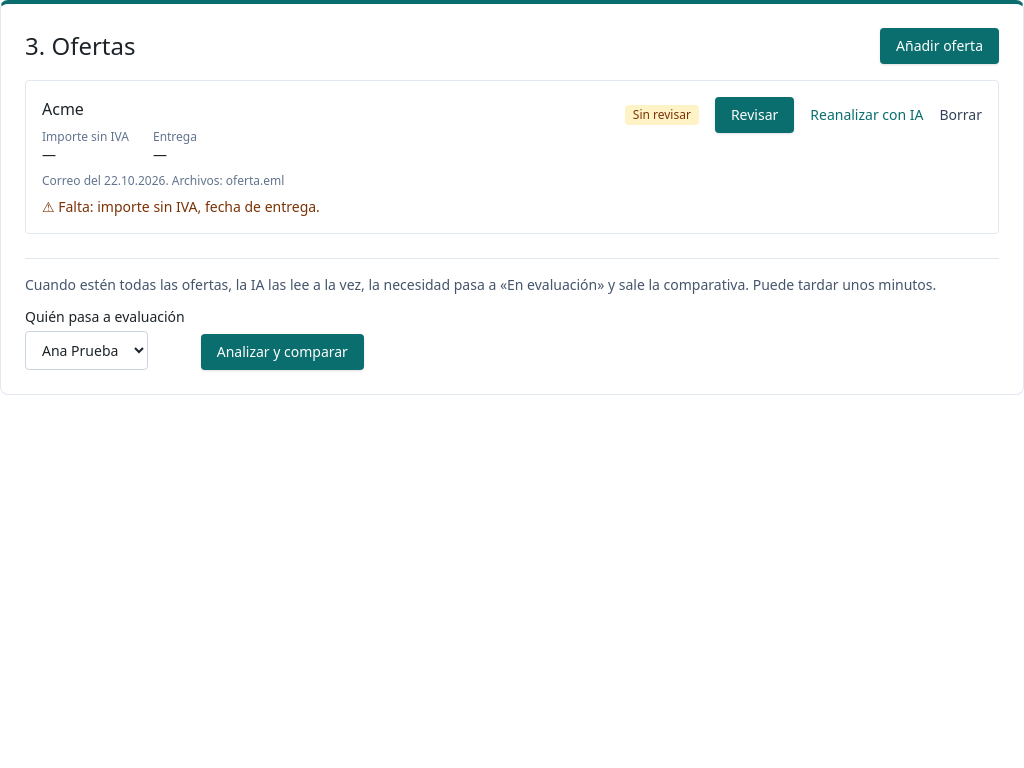
Test: SeccionOfertas › no guarda un importe que no es un número
The image size is (1024, 768).
Click the button with aria-label "Revisar la oferta de Acme" at [755, 115], box [715,97,794,133]
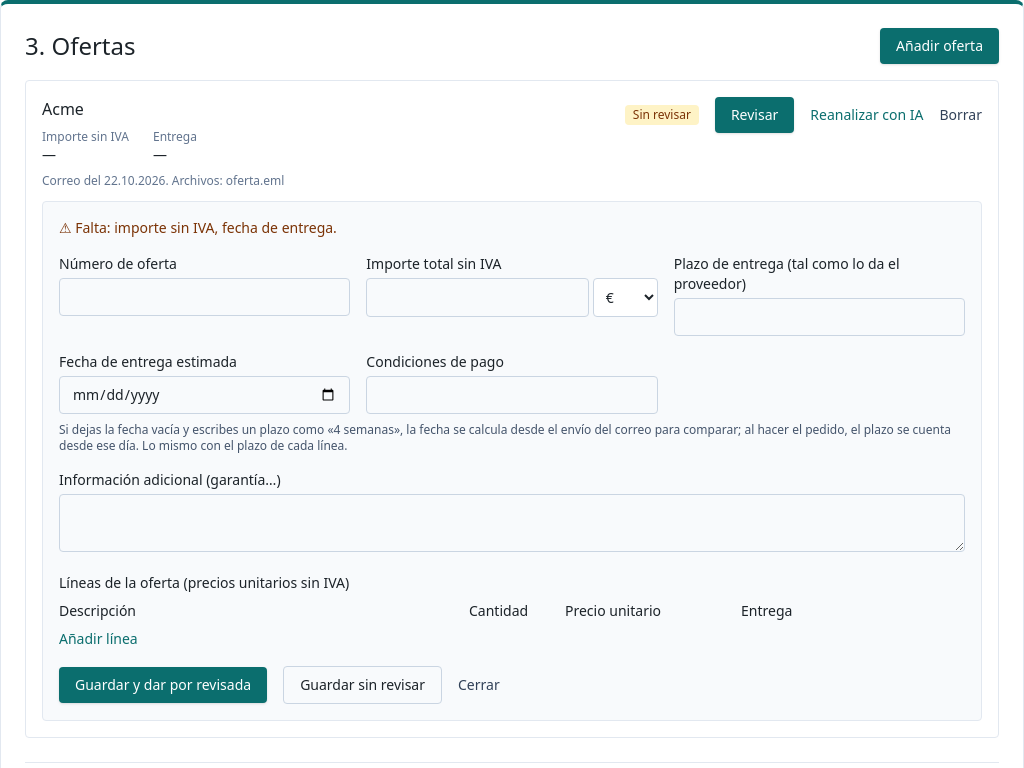
Type "mil" into the field labelled "Importe total sin IVA" at [477, 298], box [366,278,589,317]
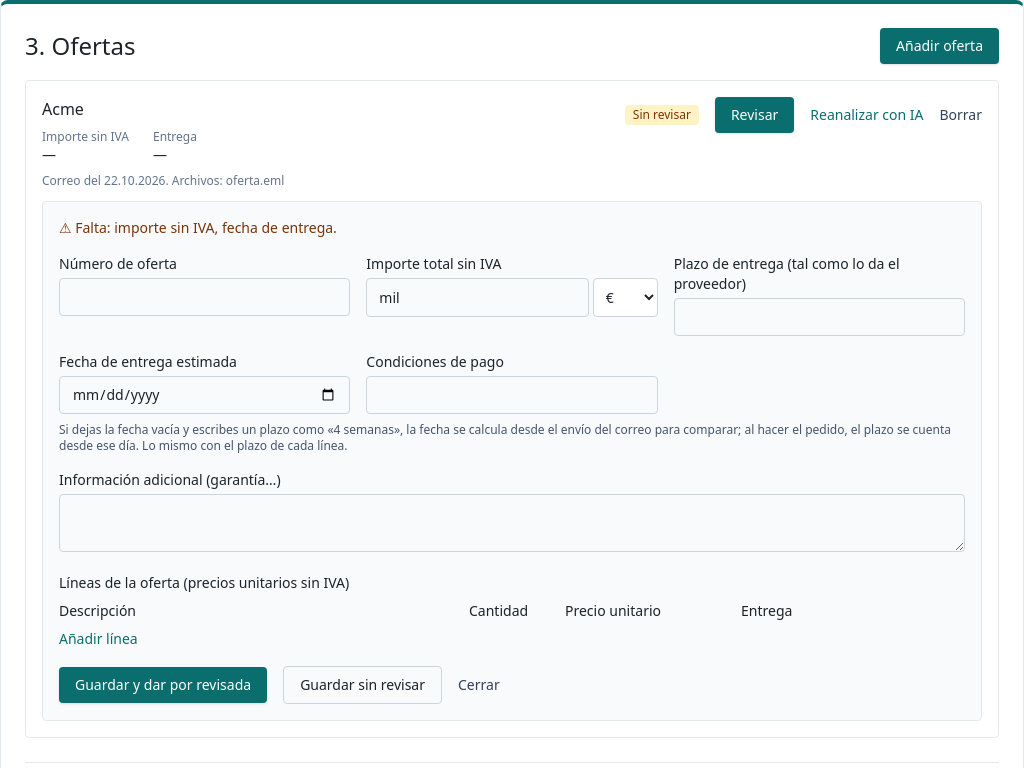
Click the button "Guardar sin revisar" at [363, 685], box [283,666,442,704]
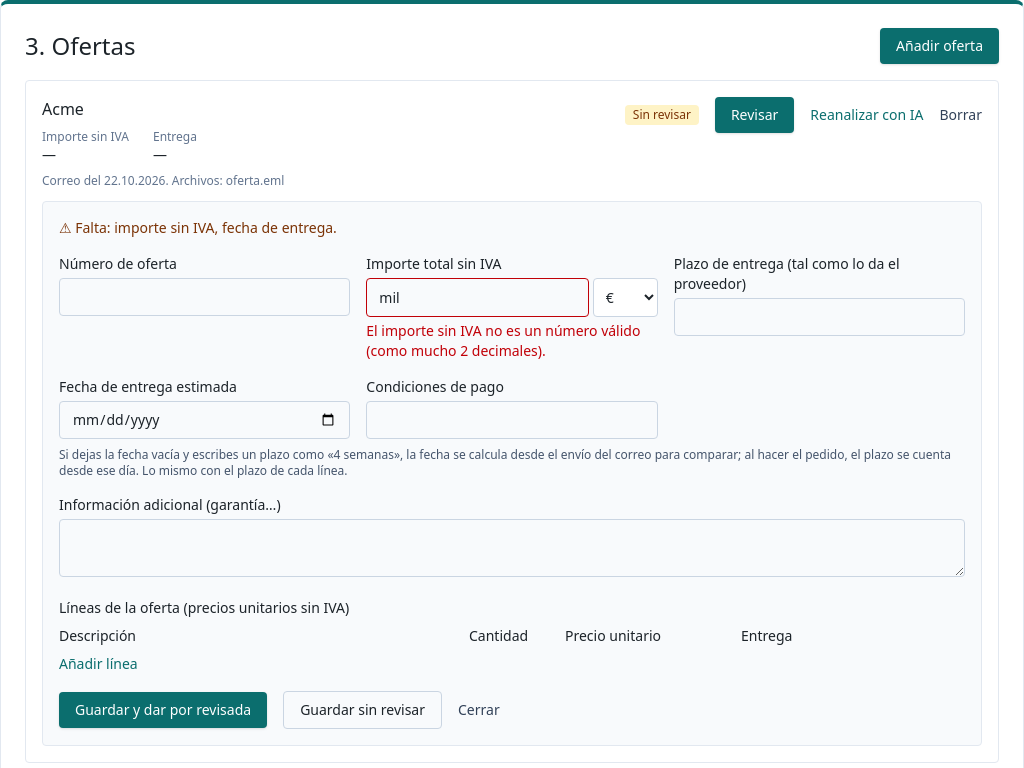
Expected: the text "El importe sin IVA no es un número válido (como mucho 2 decimales)." is shown, [366,321,658,361]
